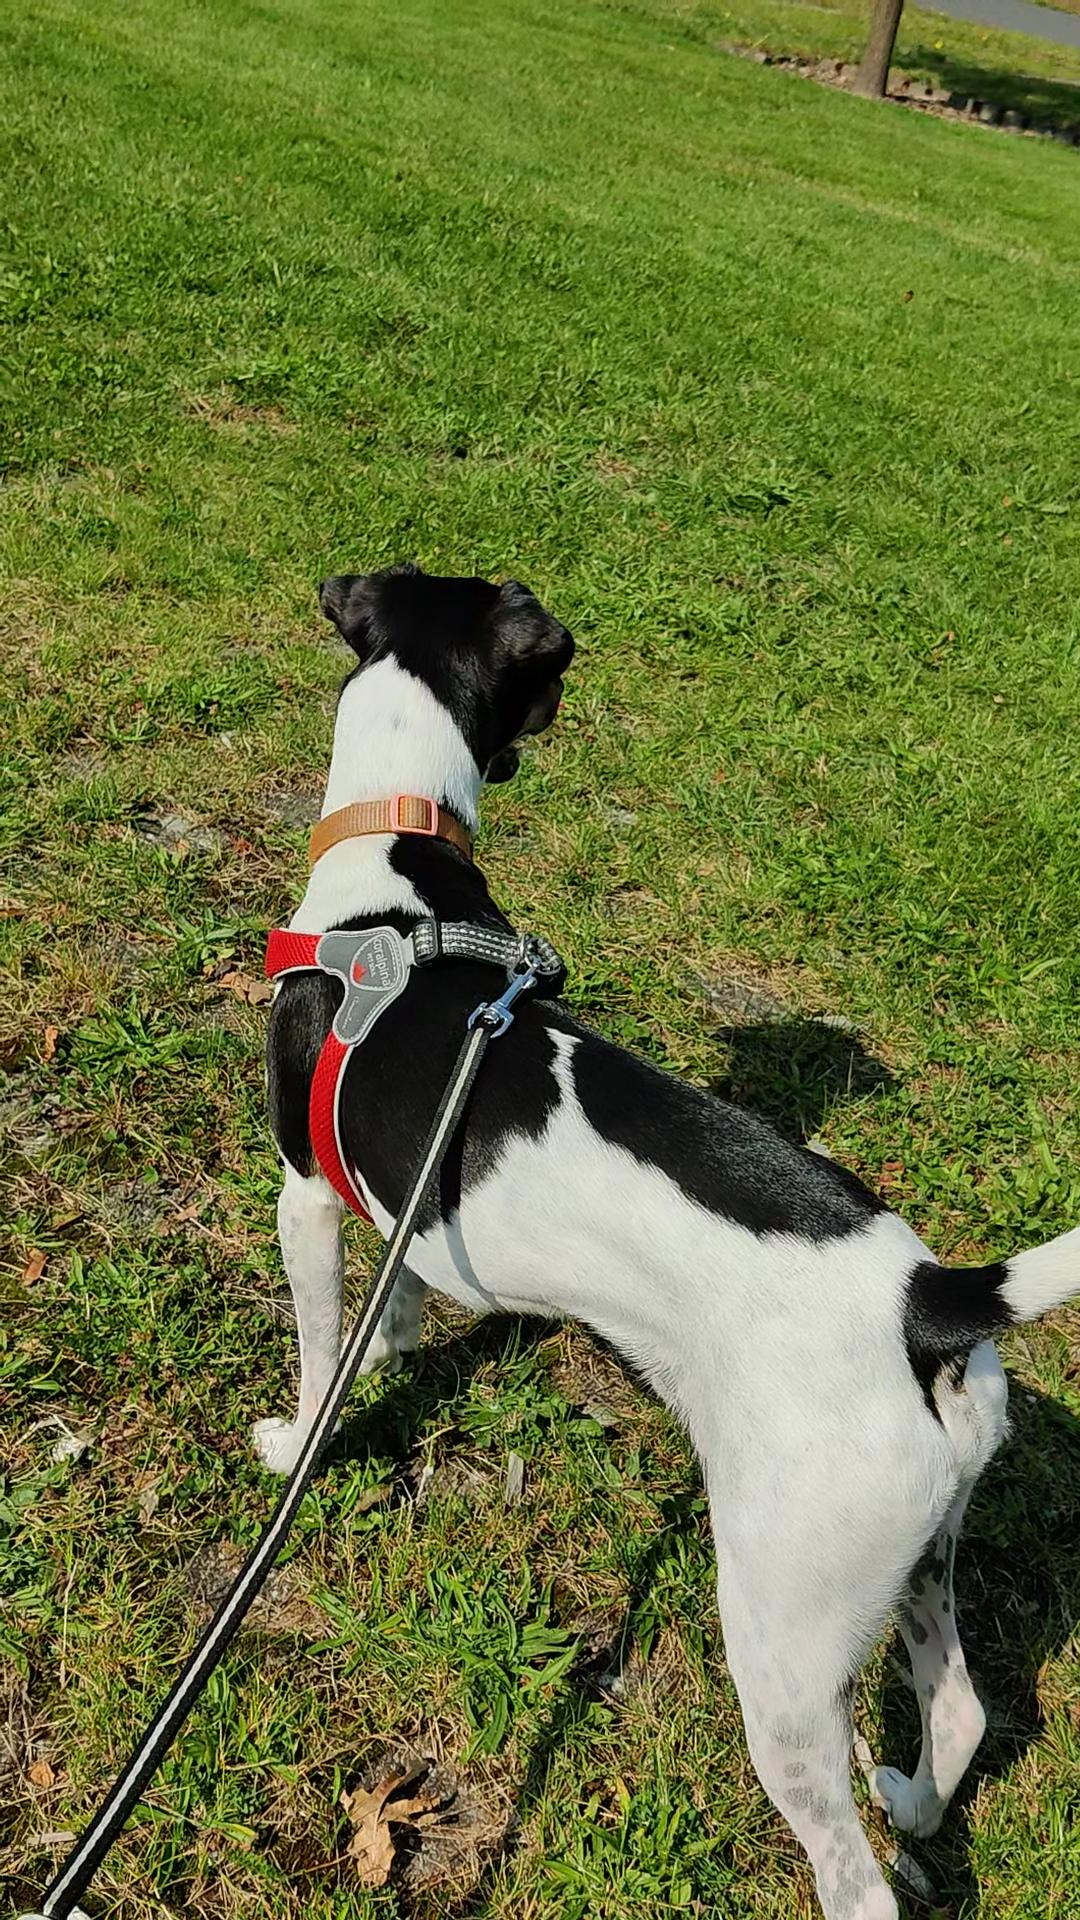Dog: (219, 524, 1079, 1919)
